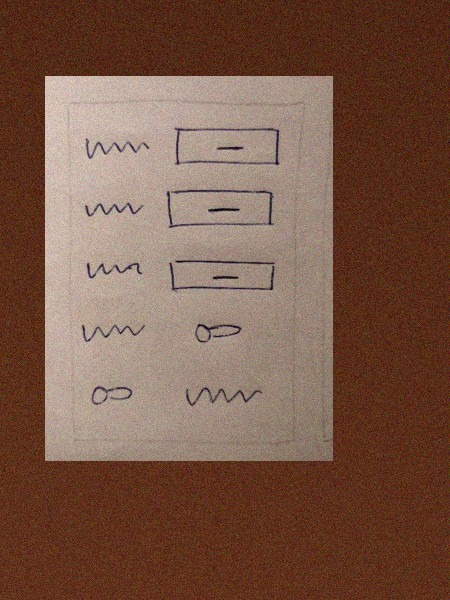button: (170, 121, 283, 172), (164, 180, 276, 231), (166, 248, 278, 299)
switch: (184, 314, 245, 350), (82, 373, 143, 409)
text: (181, 377, 265, 413), (180, 376, 263, 412), (78, 133, 153, 171), (79, 248, 154, 286), (78, 188, 152, 226), (78, 316, 152, 354)
